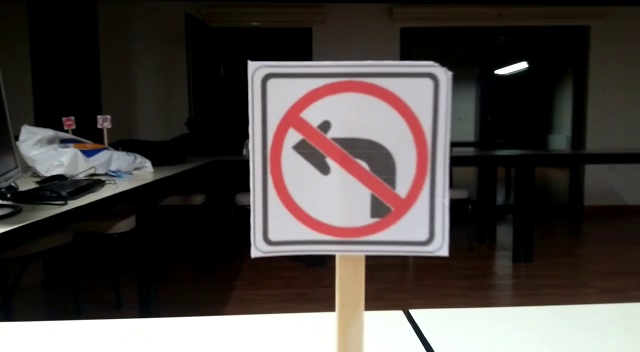sola_donulmez: (253, 65, 439, 257)
